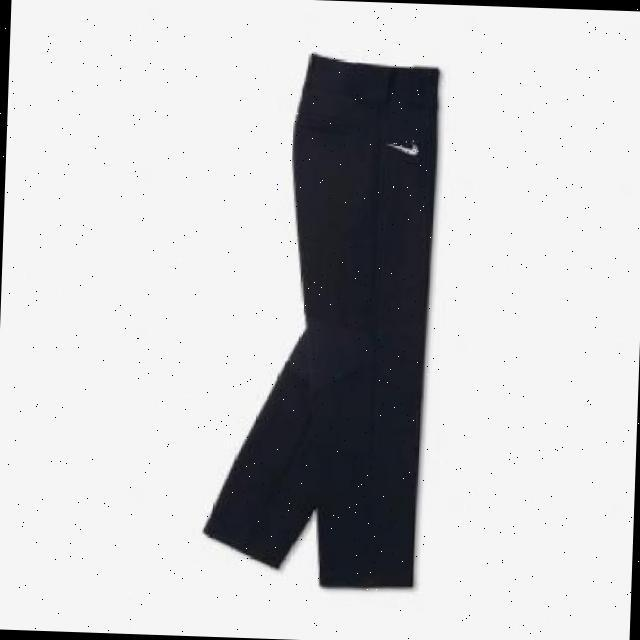Nike: (390, 139, 421, 153)
